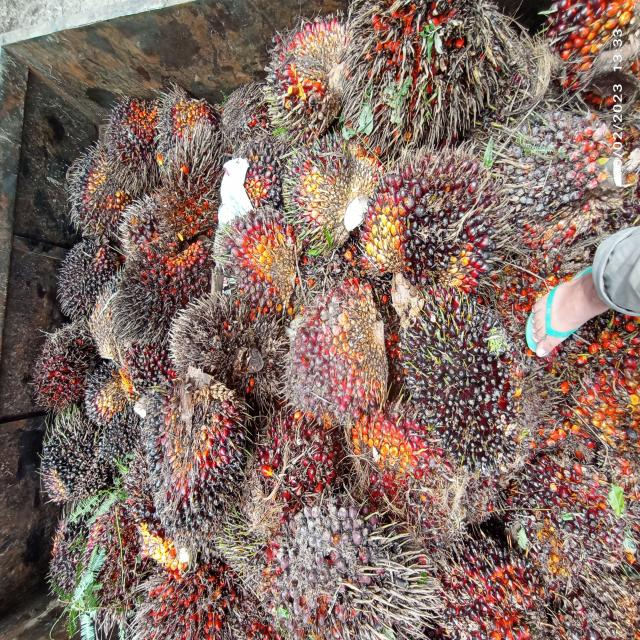fraksi 00: (392, 281, 532, 490), (490, 92, 624, 246), (142, 360, 246, 539), (275, 132, 366, 255), (59, 137, 141, 240), (46, 234, 124, 330), (39, 408, 100, 505), (100, 83, 166, 165), (153, 78, 210, 162), (84, 356, 130, 436), (98, 408, 141, 466)
fraksi 1: (356, 128, 493, 310), (269, 501, 432, 640), (248, 0, 362, 143), (208, 208, 310, 318), (120, 332, 168, 398)
fraksi 3: (266, 262, 411, 429), (337, 385, 458, 542), (114, 198, 214, 359)
fraksi 4: (349, 0, 512, 146), (25, 316, 101, 425), (158, 138, 234, 234)
